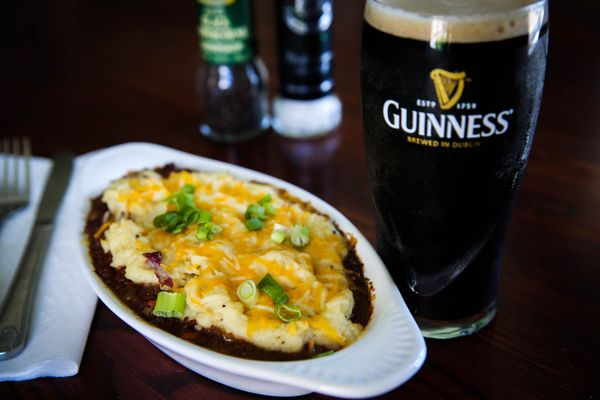burger: (0, 153, 31, 222)
pizza: (358, 0, 551, 338)
sandwich: (0, 147, 73, 361)
